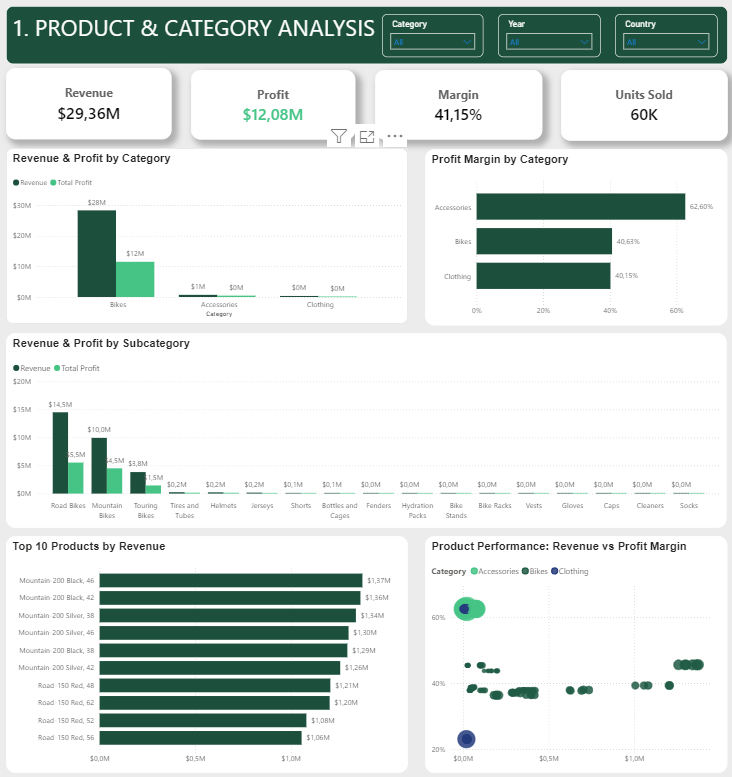

Layout of this report page (visuals, bound fields, positions):
{"tool":"powerbi","page":{"name":"Product & Category","canvas":[1400,1300],"ordinal":1},"visuals":[{"type":"textbox","box":[13,10,1203,97],"z":0},{"type":"slicer","fields":{"Values":["Dim_Date.Year"]},"box":[833,23,171,72],"z":1000},{"type":"slicer","fields":{"Values":["Dim_Product.Category"]},"box":[640,22.9,168.9,72.2],"z":2000},{"type":"slicer","fields":{"Values":["Dim_Territory.Country"]},"box":[1028,23,171.1,72.2],"z":3000},{"type":"cardVisual","fields":{"Data":["Sum(Fact_InternetSales.SalesAmount)"]},"box":[12.5,113.8,276.2,118.8],"z":4000},{"type":"cardVisual","fields":{"Data":["_Measures.Total Profit"]},"box":[321.2,116.2,273.8,116.2],"z":5000},{"type":"cardVisual","fields":{"Data":["_Measures.Profit Margin %"]},"box":[628.8,116.2,278.8,116.2],"z":6000},{"type":"cardVisual","fields":{"Data":["_Measures.Units Sold"]},"box":[937.5,116.2,277.5,117.5],"z":7000},{"type":"clusteredColumnChart","title":"Revenue & Profit by Category","fields":{"Category":["Dim_Product.Category"],"Y":["_Measures.Revenue","_Measures.Total Profit"]},"box":[13.3,246.7,670,293.3],"z":8000},{"type":"clusteredBarChart","title":"Profit Margin by Category","fields":{"Category":["Dim_Product.Category"],"Y":["_Measures.Profit Margin %"]},"box":[711.2,247.5,503.8,293.8],"z":9000},{"type":"clusteredColumnChart","title":"Revenue & Profit by Subcategory","fields":{"Category":["Dim_Product.SubCategory"],"Y":["_Measures.Revenue","_Measures.Total Profit"]},"box":[13.8,555,1201.2,325],"z":10000},{"type":"clusteredBarChart","title":"Top 10 Products by Revenue","fields":{"Category":["Dim_Product.ProductName"],"Y":["_Measures.Revenue"]},"box":[13,893,670,395],"z":11000},{"type":"scatterChart","title":"Product Performance: Revenue vs Profit Margin","fields":{"Category":["Dim_Product.ProductName"],"Series":["Dim_Product.Category"],"Size":["_Measures.Units Sold"],"X":["_Measures.Revenue"],"Y":["_Measures.Profit Margin %"]},"box":[711.2,892.5,503.8,395],"z":12000}]}

Visuals, with their boxes on the page's 1400x1300 design canvas (x1, y1, x2, y2). These are canvas units, not pixel positions in the 732x777 screenshot, which may show the page scaled, cropped or inside an application window:
textbox: <region>13, 10, 1216, 107</region>
slicer - Dim_Date.Year: <region>833, 23, 1004, 95</region>
slicer - Dim_Product.Category: <region>640, 23, 809, 95</region>
slicer - Dim_Territory.Country: <region>1028, 23, 1199, 95</region>
cardVisual - Sum(Fact_InternetSales.SalesAmount): <region>12, 114, 289, 233</region>
cardVisual - _Measures.Total Profit: <region>321, 116, 595, 232</region>
cardVisual - _Measures.Profit Margin %: <region>629, 116, 908, 232</region>
cardVisual - _Measures.Units Sold: <region>938, 116, 1215, 234</region>
"Revenue & Profit by Category" clusteredColumnChart: <region>13, 247, 683, 540</region>
"Profit Margin by Category" clusteredBarChart: <region>711, 248, 1215, 541</region>
"Revenue & Profit by Subcategory" clusteredColumnChart: <region>14, 555, 1215, 880</region>
"Top 10 Products by Revenue" clusteredBarChart: <region>13, 893, 683, 1288</region>
"Product Performance: Revenue vs Profit Margin" scatterChart: <region>711, 892, 1215, 1288</region>
